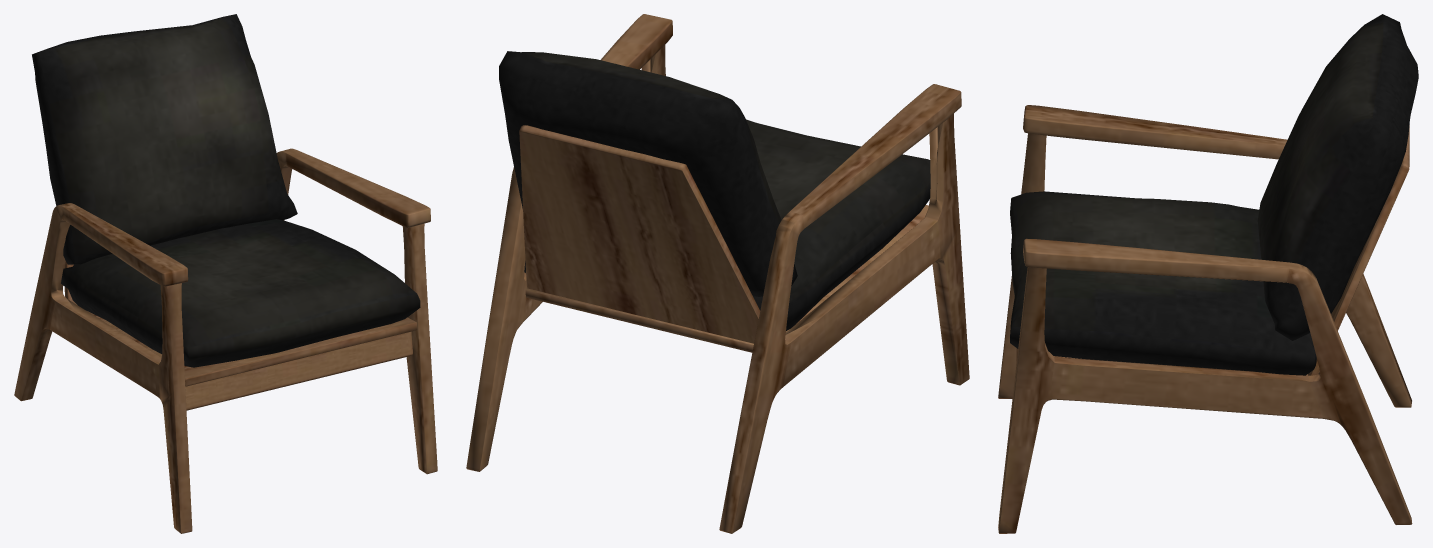
The model's file is modern_arm_chair_01.glb.
3 views of the same model, side by side, from view 1: azimuth 30°, elevation 25°; view 2: azimuth 150°, elevation 25°; view 3: azimuth 270°, elevation 25° (orthographic). The views are drawn at different scales.
Visible parts, largest first — view 1: modern_arm_chair_01; view 2: modern_arm_chair_01; view 3: modern_arm_chair_01.
Boxes of the visible parts, left/top/right/bottom form: modern_arm_chair_01: left=14, top=14, right=437, bottom=533; modern_arm_chair_01: left=466, top=14, right=969, bottom=533; modern_arm_chair_01: left=998, top=14, right=1418, bottom=533.
Bounding box in the file's own units: 0.8203 × 1.02 × 0.9866.
2 materials, 2 textured.
